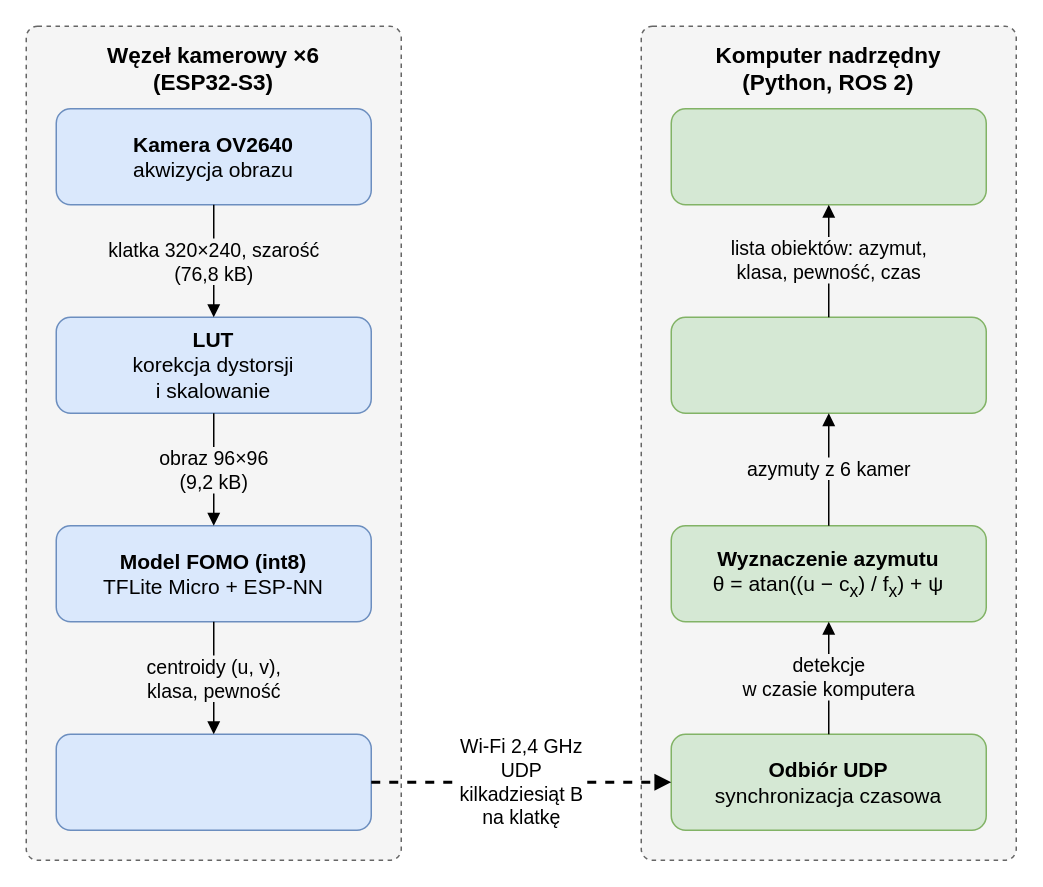
Image size: 1043x887. Some labels were removed from this diagram. The centre of each missing label's shape, as x and y in pixels:
Fuzja detekcji asocjacja i łączenie: (828,364)
Publikacja w ROS 2 komunikat ze znacznikiem czasu: (828,156)
Wysłanie pakietu UDP + znacznik czasu zdjęcia: (213,781)
